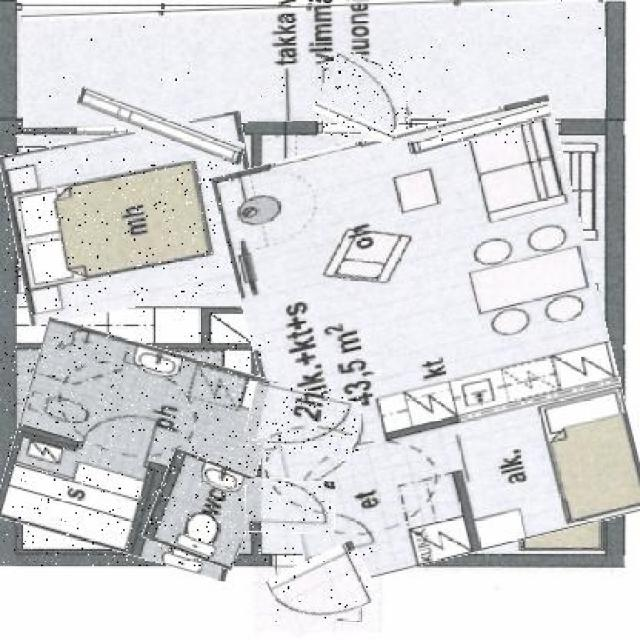door: (271, 548, 375, 630), (317, 55, 411, 138), (248, 386, 358, 454), (247, 480, 336, 532)
window: (74, 98, 245, 157), (406, 111, 552, 146)
zone: (234, 112, 628, 574), (20, 0, 605, 123), (3, 332, 269, 566), (4, 122, 264, 316), (150, 454, 258, 564)
